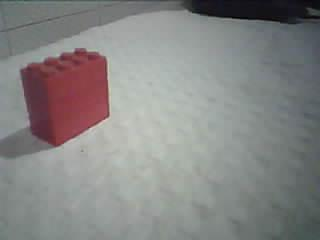lego: (18, 47, 111, 146)
